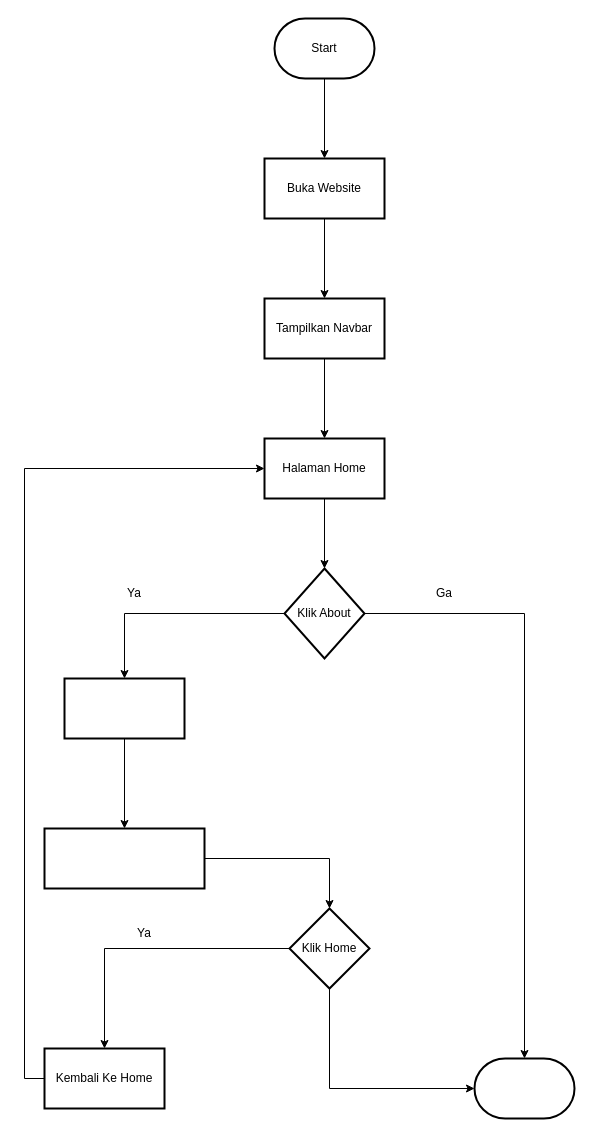
The diagram is 593 pixels wide and 1136 high, and some of its shapes have lost their labels. Here are the shapes that lost their labels. From the top down, the box of each, then its label:
(63, 677, 185, 739): Halaman About
(43, 827, 205, 889): Tampilkan Nama, Hobi, Skill, Project, Vidio, Link
(473, 1057, 575, 1119): end
